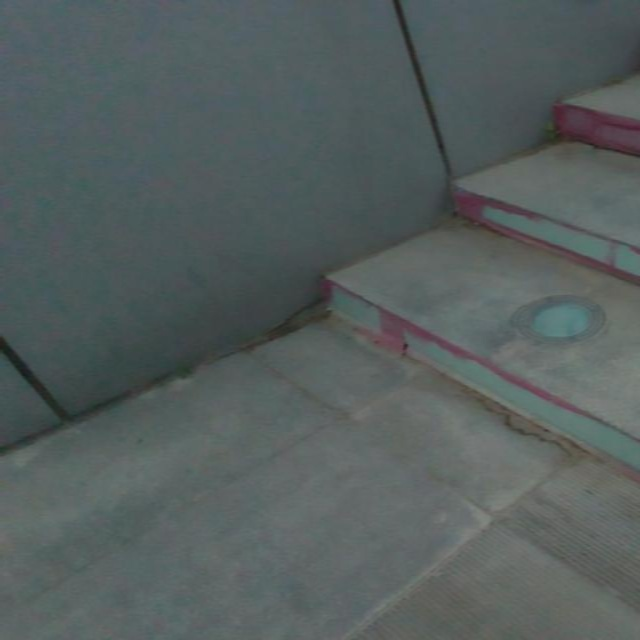stair: (378, 80, 640, 471)
